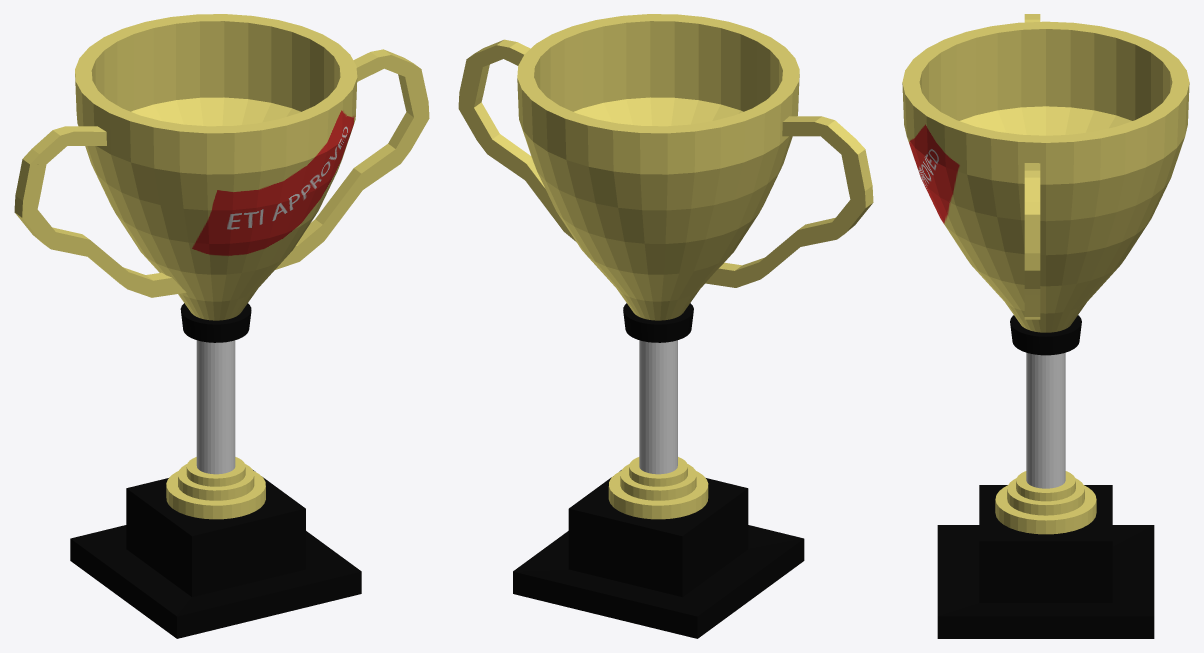
File: trofeum.fbx
3 views of the same model, side by side, from view 1: azimuth 30°, elevation 25°; view 2: azimuth 150°, elevation 25°; view 3: azimuth 270°, elevation 25° (orthographic).
Visible parts, largest first — view 1: trofeum; view 2: trofeum; view 3: trofeum.
Boxes of the visible parts, <box> form: trofeum: <box>14,14,429,638</box>; trofeum: <box>458,14,873,638</box>; trofeum: <box>902,14,1189,638</box>.
Bounding box in the file's own units: 429 × 507 × 258.
1 material, 1 textured.
